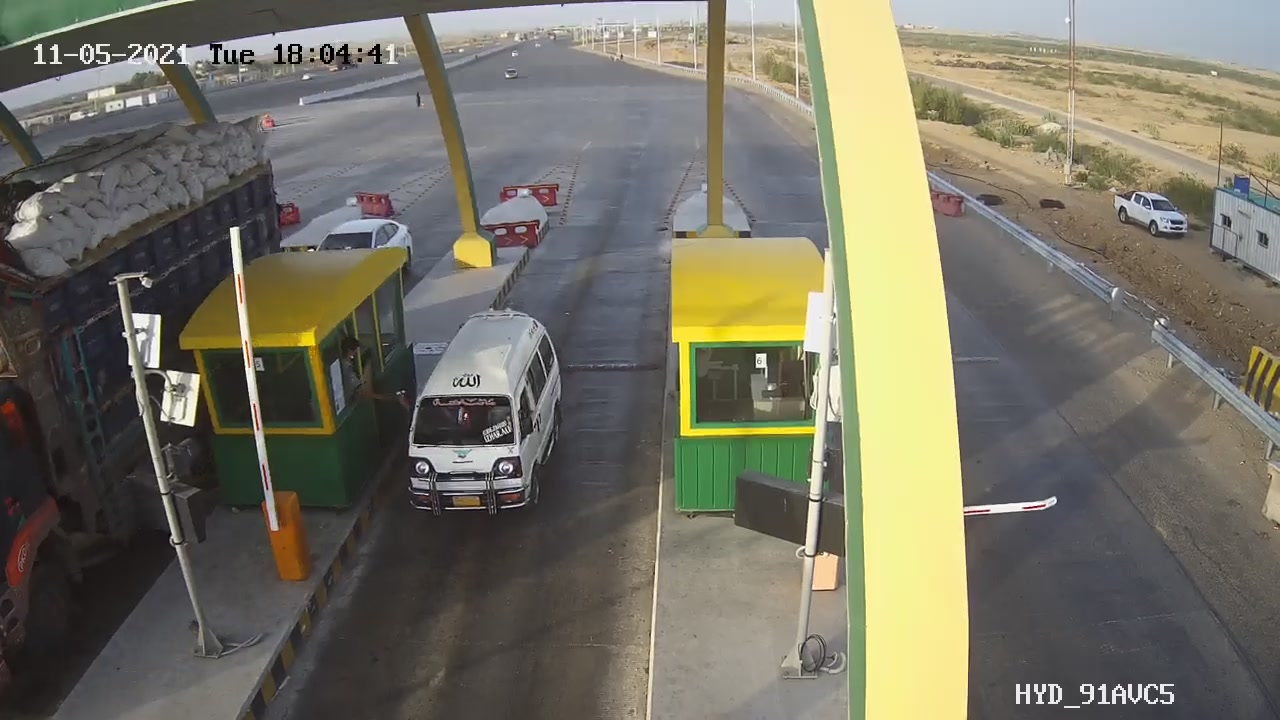F1: (383, 291, 581, 535)
